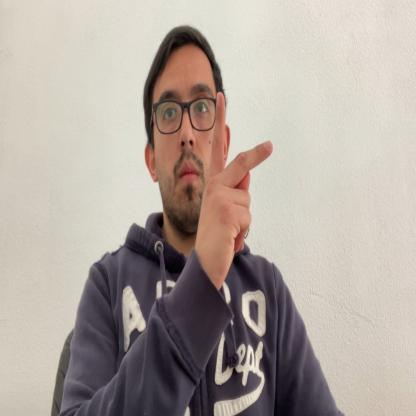P: (196, 90, 273, 290)
